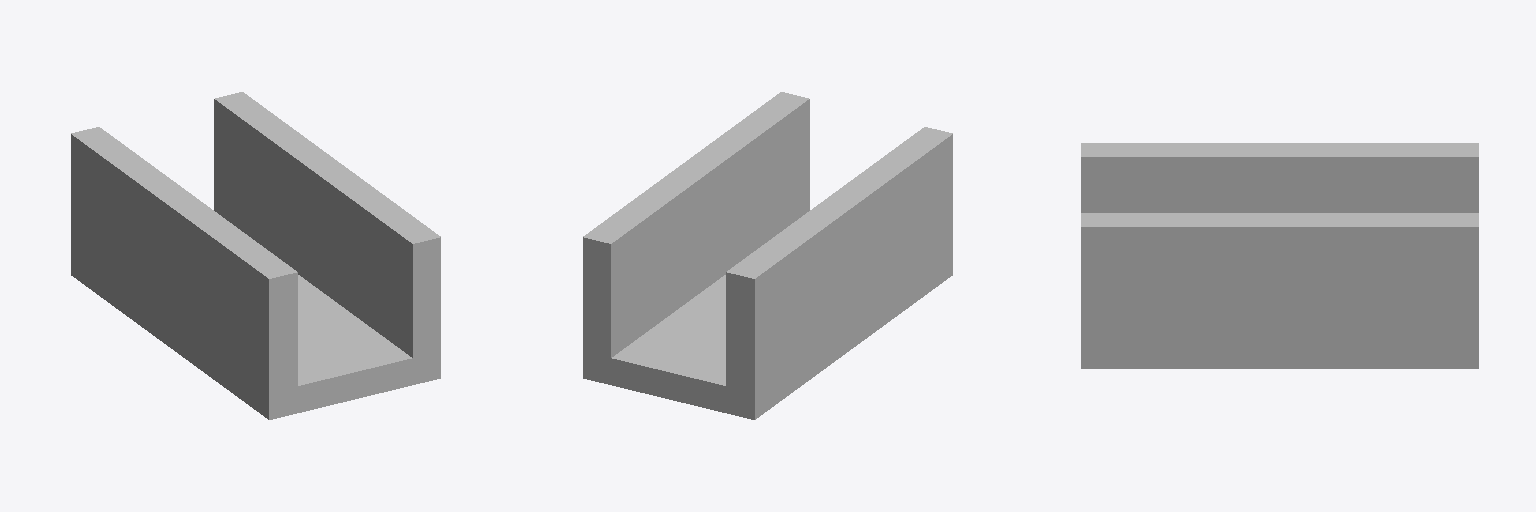
The model's file is module1.obj.
3 views of the same model, side by side, from view 1: azimuth 30°, elevation 25°; view 2: azimuth 150°, elevation 25°; view 3: azimuth 270°, elevation 25° (orthographic).
Visible parts, largest first — view 1: Cube.004; view 2: Cube.004; view 3: Cube.004.
Part boxes in pixels (x1,y1,x2,y2): Cube.004: (71,92,440,419); Cube.004: (583,92,952,419); Cube.004: (1081,143,1478,368).
Bounding box in the file's own units: 6 × 4.7 × 12.